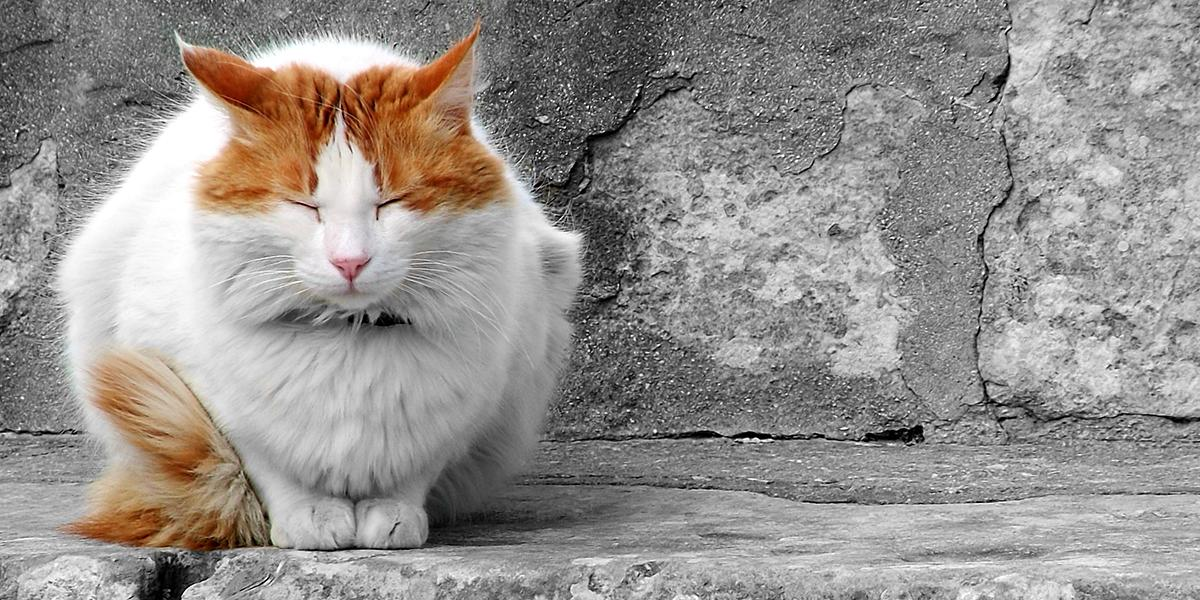Cat: (164, 7, 509, 318)
